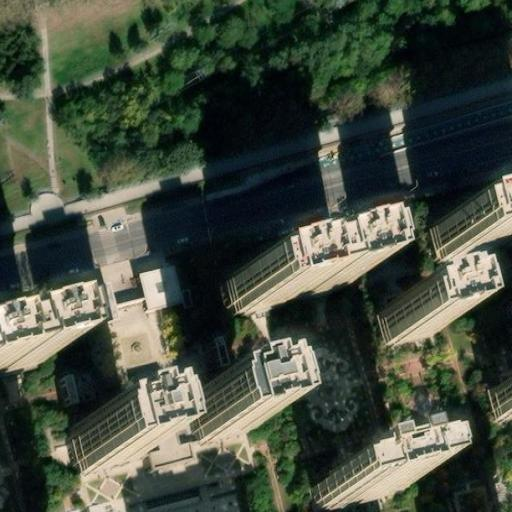building: (224, 253, 355, 318), (309, 462, 407, 512), (433, 203, 512, 261), (180, 387, 248, 451), (66, 417, 133, 478), (377, 295, 439, 348), (140, 482, 238, 512), (141, 264, 186, 309), (447, 479, 498, 512), (492, 380, 512, 418)
